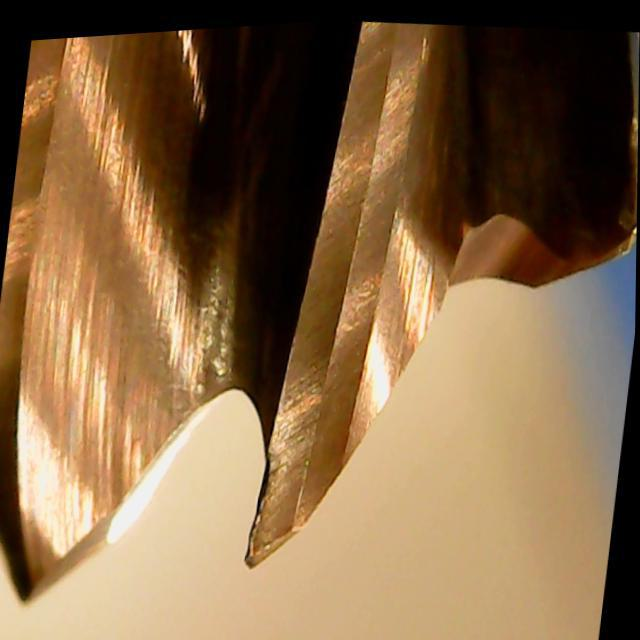Tool-wear-class-1: (230, 242, 403, 582)
